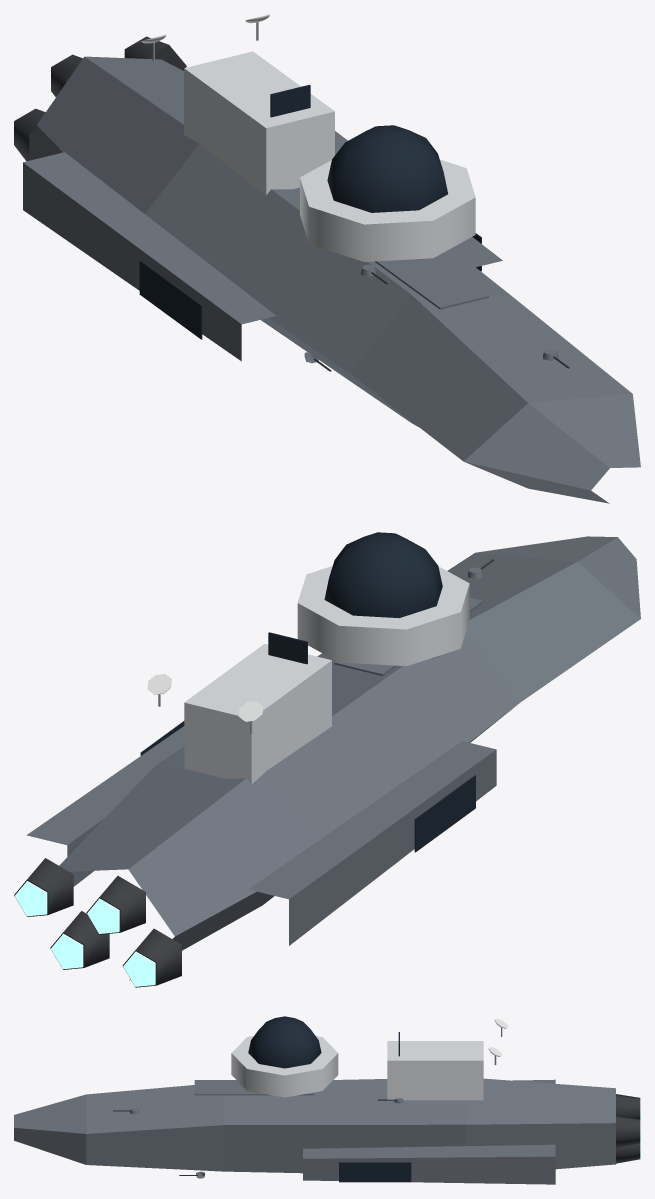
Rendered from space_ship_command_ship_mk3_lod1.glb.
3 renders of one model, top to bottom at view 1: azimuth 30°, elevation 25°; view 2: azimuth 150°, elevation 25°; view 3: azimuth 270°, elevation 25°, orthographic. The views are drawn at different scales.
Parts seen in each view (by area): view 1: body, hangar_r, engine_0, engine_3, engine_1; view 2: body, engine_3, engine_1, engine_0, engine_2, hangar_r; view 3: body, hangar_l, engine_3, engine_1, engine_2.
Part boxes in pixels (x1,y1,x2,y2): body: (23, 51, 640, 503); hangar_r: (139, 260, 202, 339); engine_0: (14, 108, 62, 161); engine_3: (124, 36, 186, 70); engine_1: (51, 54, 82, 96); body: (27, 532, 640, 980); engine_3: (14, 858, 73, 916); engine_1: (86, 875, 145, 934); engine_0: (122, 928, 181, 987); engine_2: (50, 911, 109, 969); hangar_r: (414, 775, 475, 852); body: (14, 1016, 615, 1184); hangar_l: (339, 1162, 411, 1182); engine_3: (616, 1115, 640, 1147); engine_1: (616, 1094, 640, 1119); engine_2: (616, 1142, 640, 1163).
Size of the model in its own units: 31.34 by 27.26 by 103.
